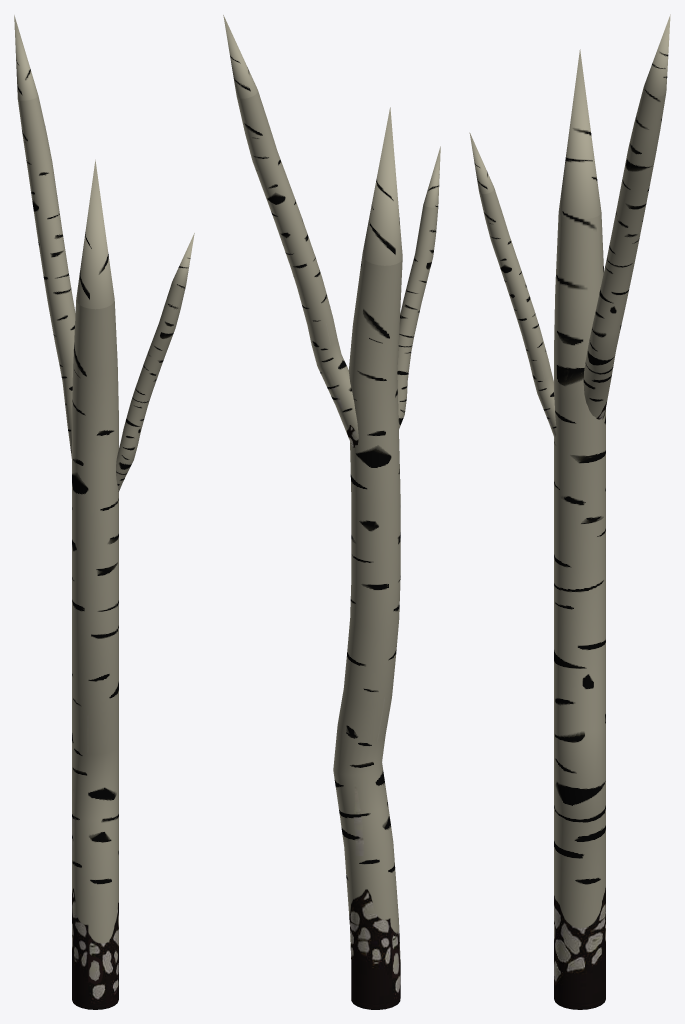
Rendered from SkinnyWoodTree5.fbx.
3 renders of one model, left to right at view 1: azimuth 90°, elevation 25°; view 2: azimuth 150°, elevation 25°; view 3: azimuth 270°, elevation 25°, orthographic. The views are drawn at different scales.
Parts seen in each view (by area): view 1: Object042; view 2: Object042; view 3: Object042.
Part boxes in pixels (x1=…): Object042: x1=14, y1=15, x2=194, y2=1009; Object042: x1=223, y1=15, x2=440, y2=1009; Object042: x1=469, y1=14, x2=670, y2=1009.
Bounding box in the file's own units: 61.53 × 435 × 76.11.
1 material, 1 textured.
